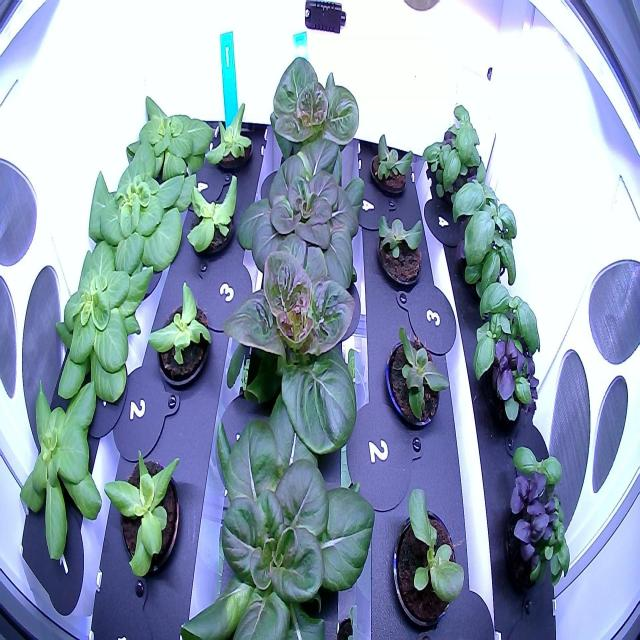young: (170, 361, 382, 640), (218, 232, 367, 474), (230, 127, 372, 310), (41, 231, 160, 431), (71, 131, 200, 301), (10, 368, 110, 577), (258, 48, 368, 208), (101, 436, 189, 598), (386, 480, 470, 638), (119, 82, 218, 202), (140, 272, 218, 402), (378, 314, 455, 440), (182, 166, 252, 267), (371, 209, 430, 301), (200, 92, 258, 180), (363, 120, 418, 205)
